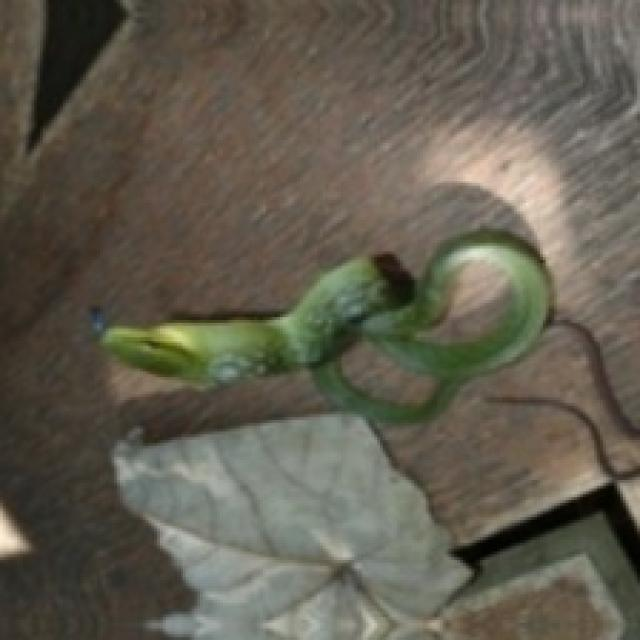red-tailed green ratsnake: (100, 229, 551, 420)
